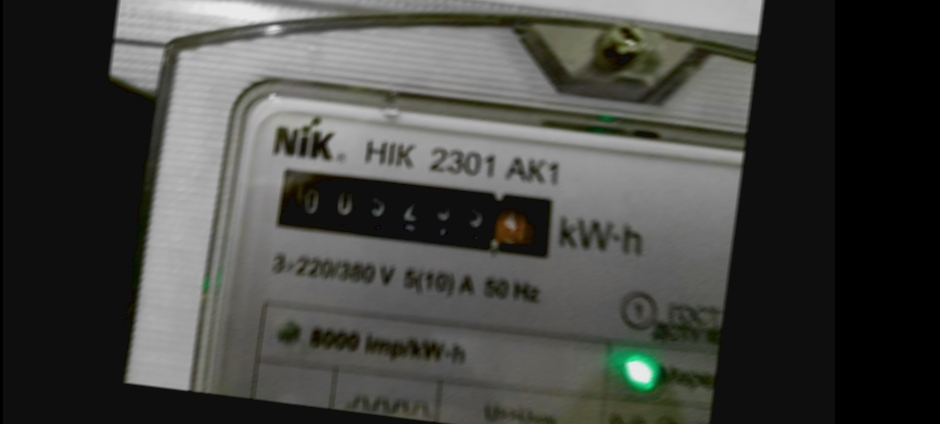0: (334, 184, 358, 219), (302, 184, 324, 217)
2: (400, 189, 425, 225)
3: (432, 191, 460, 227)
4: (500, 200, 526, 238)
5: (465, 194, 492, 233), (368, 186, 391, 221)
screen: (260, 150, 570, 274)
